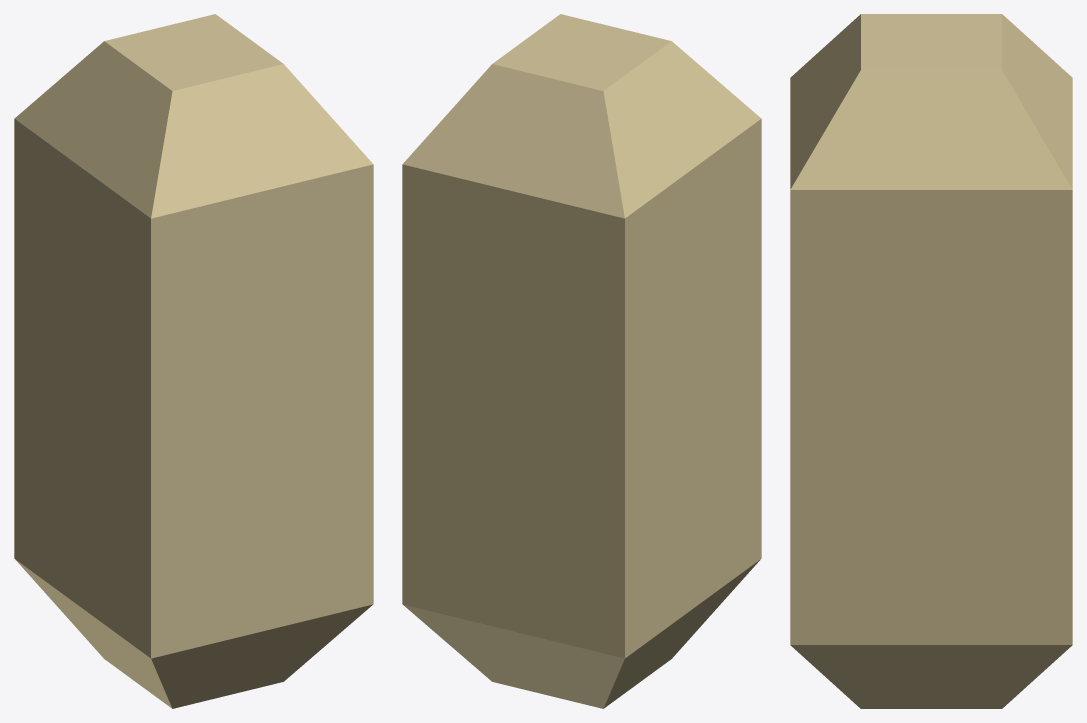
Rendered from Bandit5UpperArm.fbx.
The picture shows the model from 3 angles, left to right: view 1: azimuth 30°, elevation 25°; view 2: azimuth 150°, elevation 25°; view 3: azimuth 270°, elevation 25°; orthographic projection. The views are drawn at different scales.
Parts seen in each view (by area): view 1: Bandit5UpperArm; view 2: Bandit5UpperArm; view 3: Bandit5UpperArm.
Part boxes in pixels (bbox=[...]): Bandit5UpperArm: bbox=[14, 14, 373, 708]; Bandit5UpperArm: bbox=[402, 14, 761, 708]; Bandit5UpperArm: bbox=[790, 14, 1072, 708].
Size of the model in its own units: 0.1568 by 0.4161 by 0.1668.
